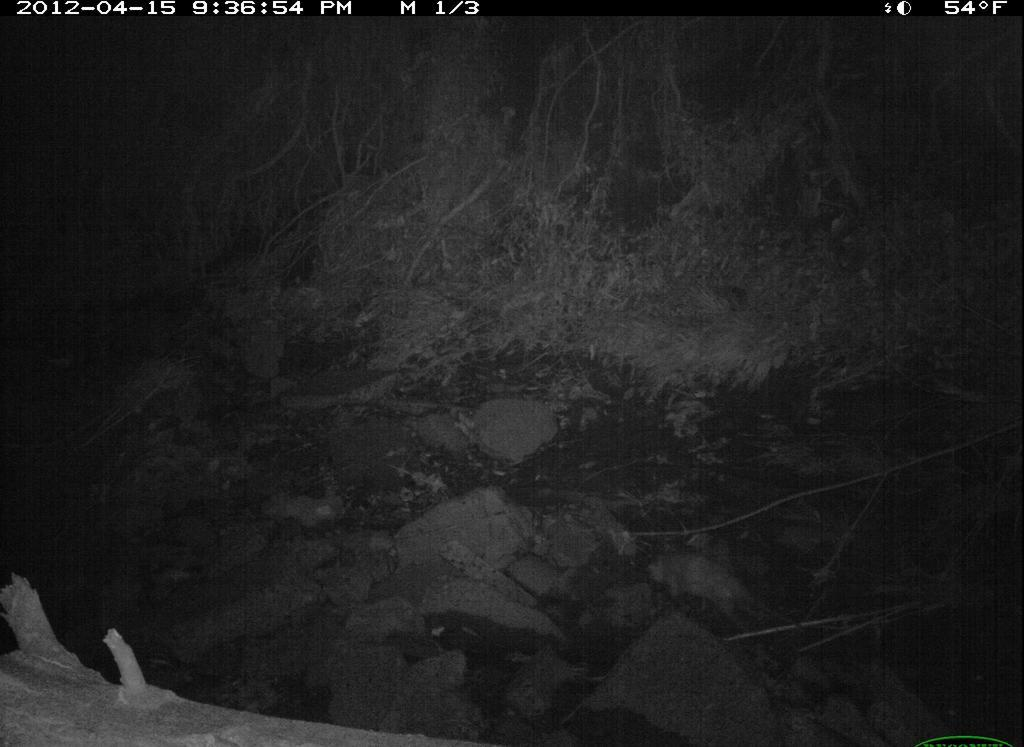opossum: (633, 534, 818, 650)
